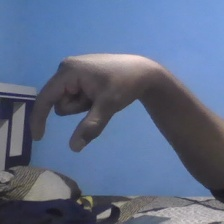Q: (26, 48, 150, 156)
